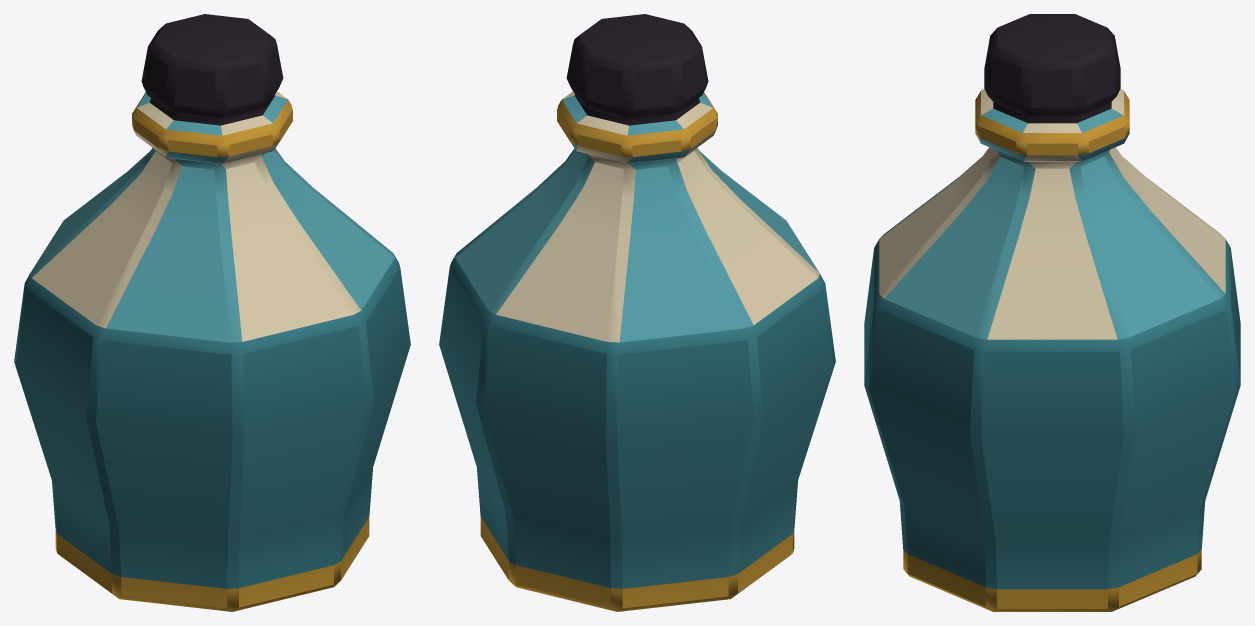
The model's file is Bottle_24.glb.
3 views of the same model, side by side, from view 1: azimuth 30°, elevation 25°; view 2: azimuth 150°, elevation 25°; view 3: azimuth 270°, elevation 25° (orthographic).
Parts seen in each view (by area): view 1: Bottle_24; view 2: Bottle_24; view 3: Bottle_24.
Part boxes in pixels (x1,y1,x2,y2): Bottle_24: (14,14,410,611); Bottle_24: (439,14,835,611); Bottle_24: (864,14,1240,611).
Bounding box in the file's own units: 1.48 × 2.26 × 1.48.
